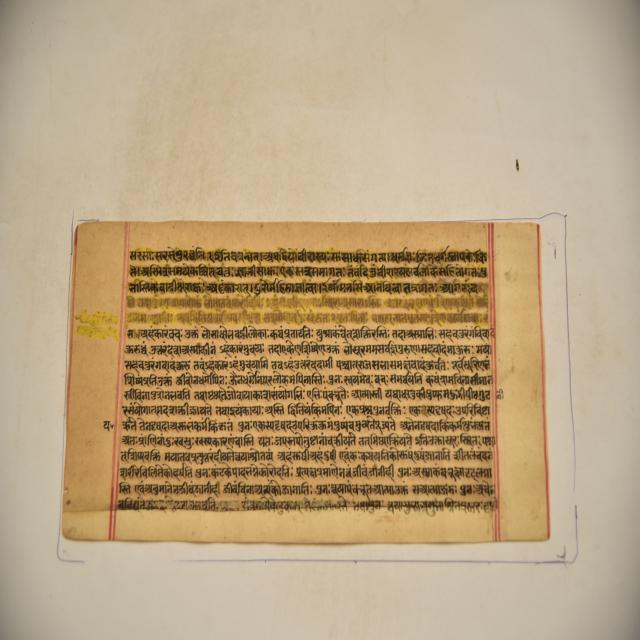text_paragraph: (60, 218, 546, 536)
